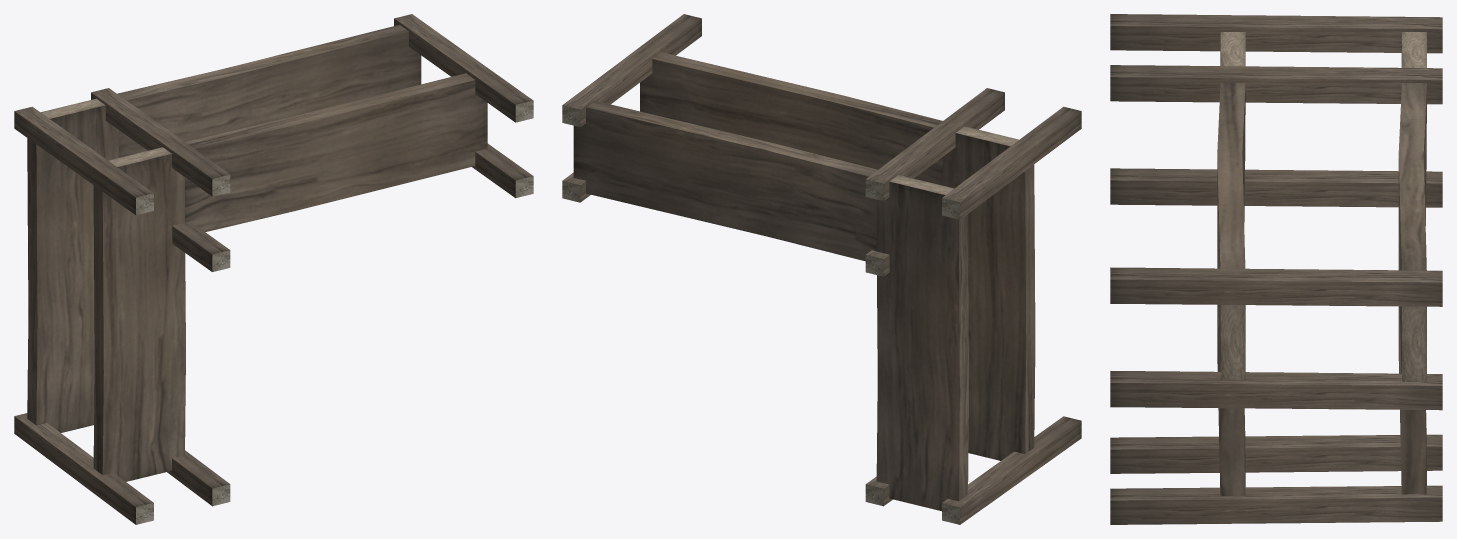
Rendered from Counter_Corner_L_C.fbx.
3 renders of one model, left to right at view 1: azimuth 30°, elevation 25°; view 2: azimuth 150°, elevation 25°; view 3: azimuth 270°, elevation 25°, orthographic. The views are drawn at different scales.
Visible parts, largest first — view 1: Counter_Corner_L_C; view 2: Counter_Corner_L_C; view 3: Counter_Corner_L_C.
Part boxes in pixels (x1,y1,x2,y2): Counter_Corner_L_C: [14, 14, 533, 524]; Counter_Corner_L_C: [562, 14, 1081, 524]; Counter_Corner_L_C: [1110, 14, 1442, 524].
Size of the model in its own units: 4.29 by 3.37 by 2.27.
